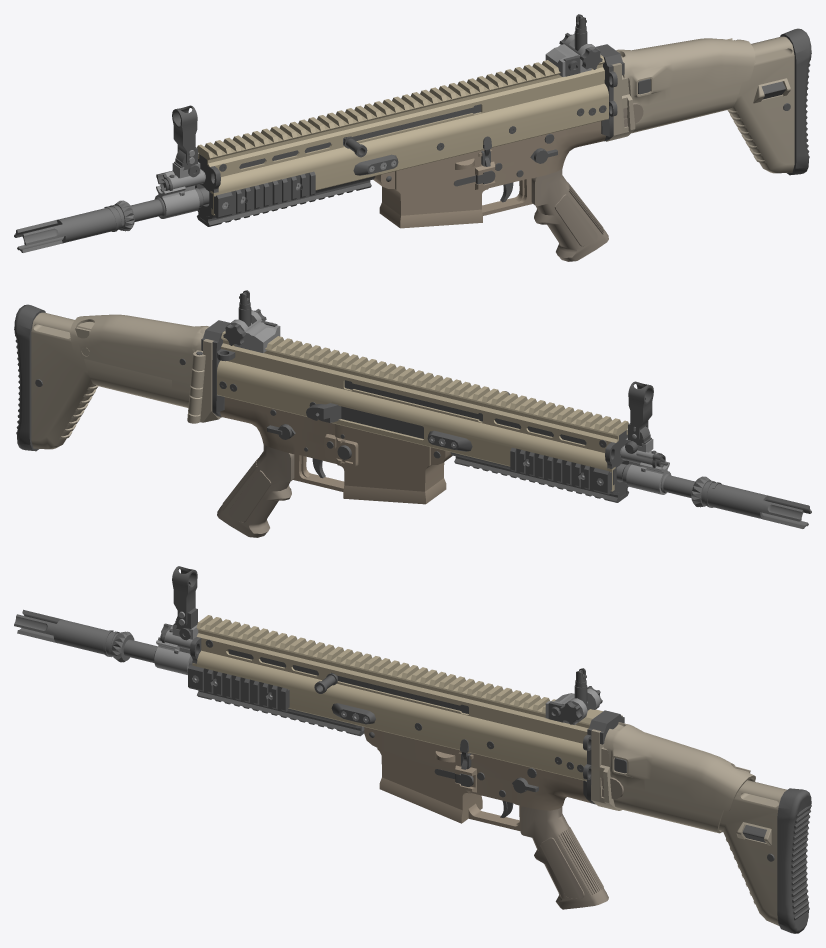
The model's file is Scar.fbx.
The picture shows the model from 3 angles, top to bottom: view 1: azimuth 30°, elevation 25°; view 2: azimuth 150°, elevation 25°; view 3: azimuth 330°, elevation 25°; orthographic projection.
Parts seen in each view (by area): view 1: Handle, polySurface1460; view 2: Handle, polySurface1460; view 3: Handle, polySurface1460.
Boxes of the visible parts, bbox=[...] form: Handle: bbox=[14, 14, 811, 261]; polySurface1460: bbox=[239, 104, 481, 168]; Handle: bbox=[14, 290, 811, 537]; polySurface1460: bbox=[344, 380, 586, 444]; Handle: bbox=[14, 566, 811, 933]; polySurface1460: bbox=[228, 649, 468, 713].
Size of the model in its own units: 49.72 by 14.77 by 4.36.
